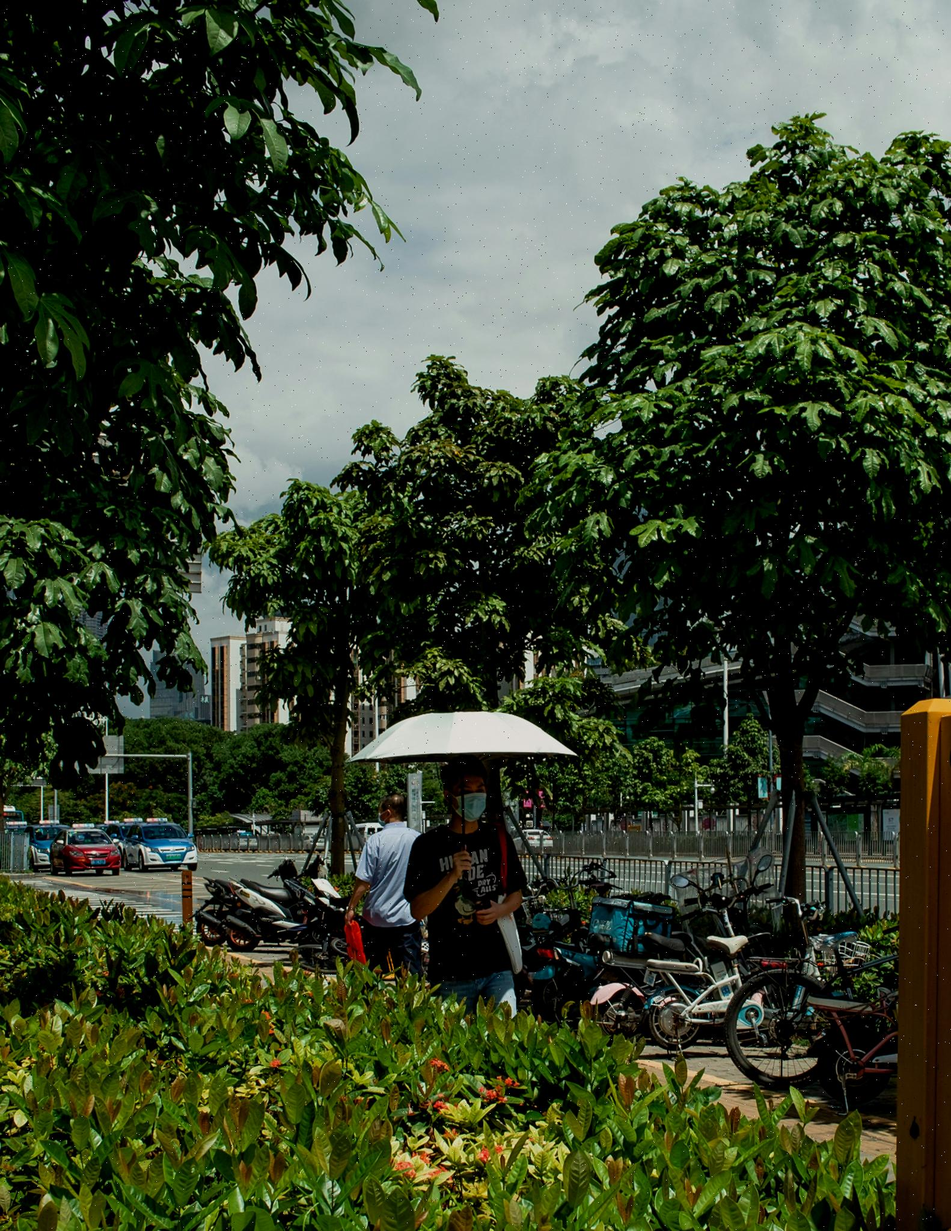car: (115, 819, 198, 868), (50, 829, 122, 878), (29, 826, 71, 874)
pedestrian: (406, 755, 535, 1010), (346, 793, 429, 983)
